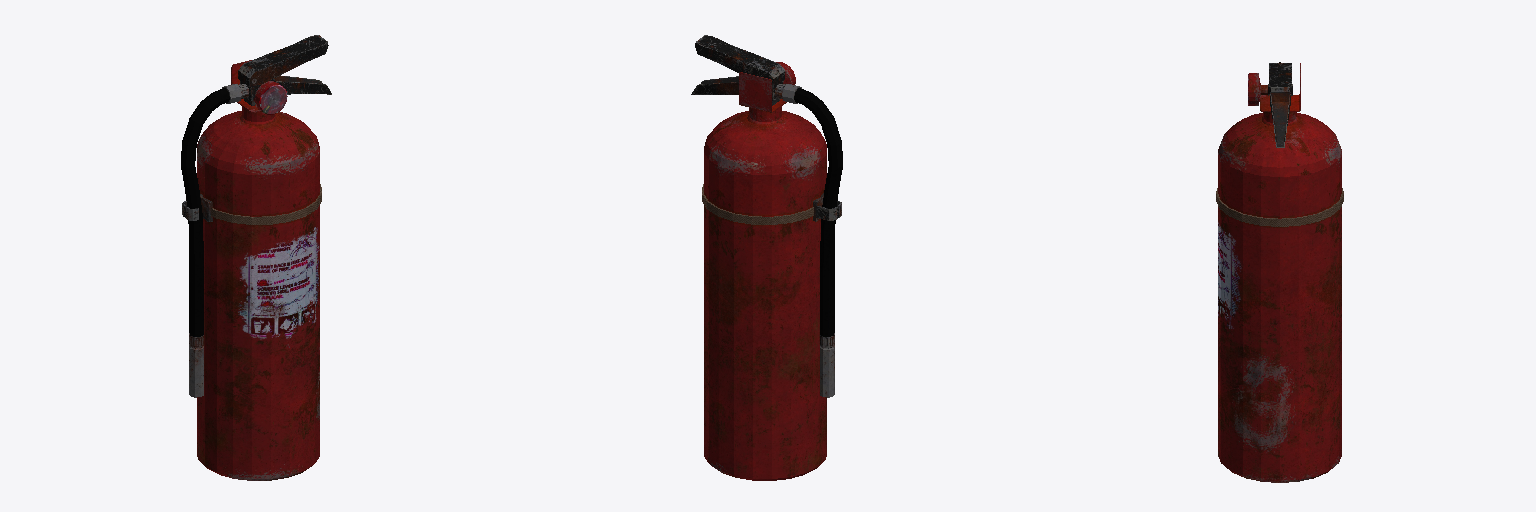
The picture shows the model from 3 angles: view 1: azimuth 30°, elevation 25°; view 2: azimuth 150°, elevation 25°; view 3: azimuth 270°, elevation 25°; orthographic projection.
Visible parts, largest first — view 1: Object001; view 2: Object001; view 3: Object001.
Part boxes in pixels (x1,y1,x2,y2): Object001: (181, 35, 331, 480); Object001: (691, 35, 842, 480); Object001: (1216, 62, 1343, 482).
Size of the model in its own units: 364 by 937 by 270.
1 materials, 1 textured.